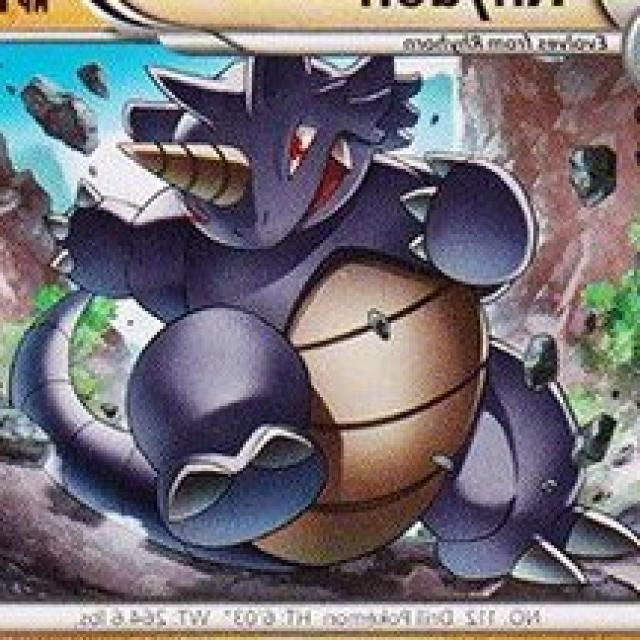Rhydon: (44, 61, 596, 590)
